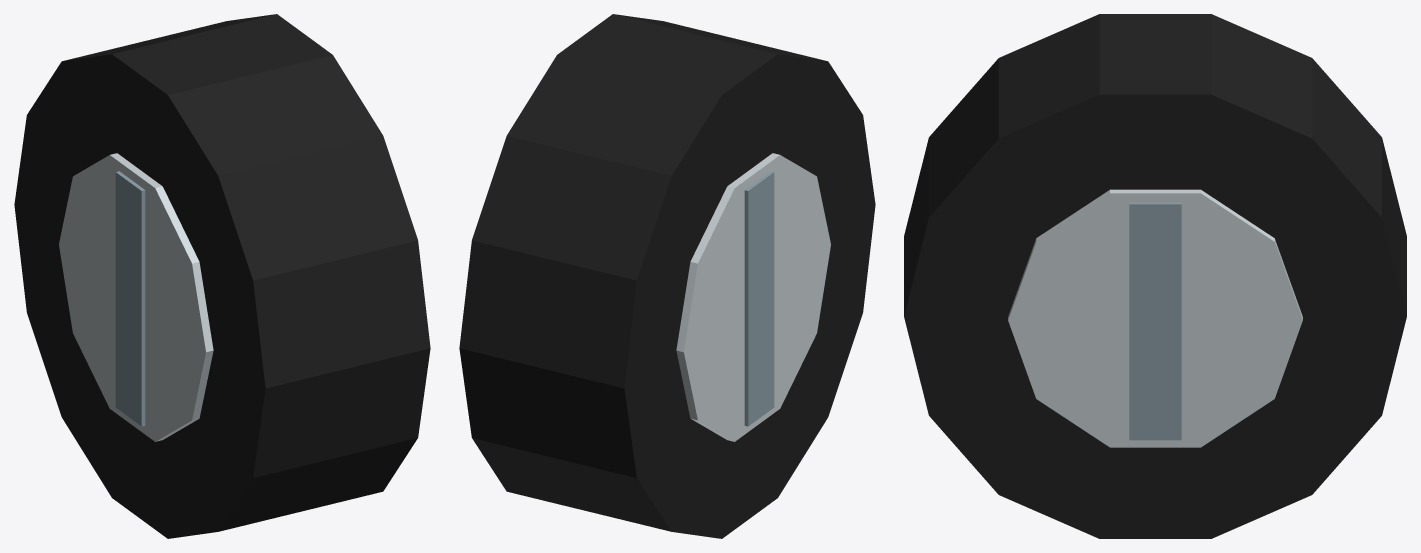
File: Teker.fbx
3 views of the same model, side by side, from view 1: azimuth 30°, elevation 25°; view 2: azimuth 150°, elevation 25°; view 3: azimuth 270°, elevation 25° (orthographic).
Visible parts, largest first — view 1: Teker; view 2: Teker; view 3: Teker.
Part boxes in pixels (x1,y1,x2,y2): Teker: [14, 14, 430, 538]; Teker: [459, 14, 875, 538]; Teker: [904, 14, 1406, 538].
Size of the model in its own units: 25 by 56.55 by 58.
